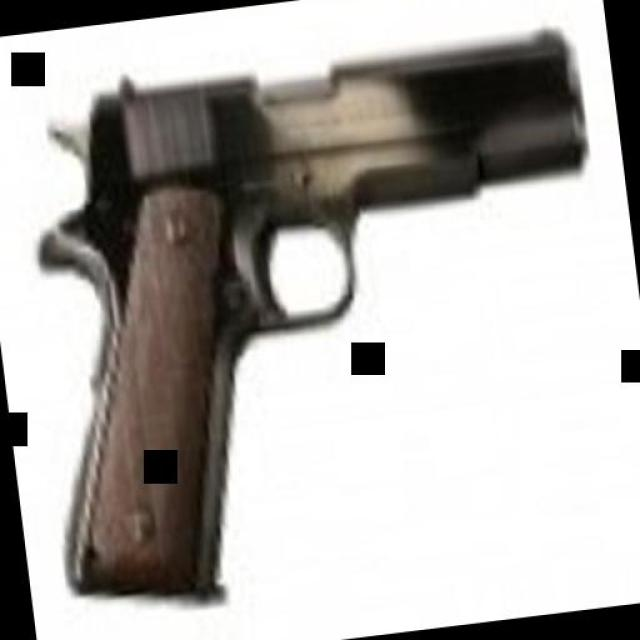gun: (0, 2, 636, 614)
